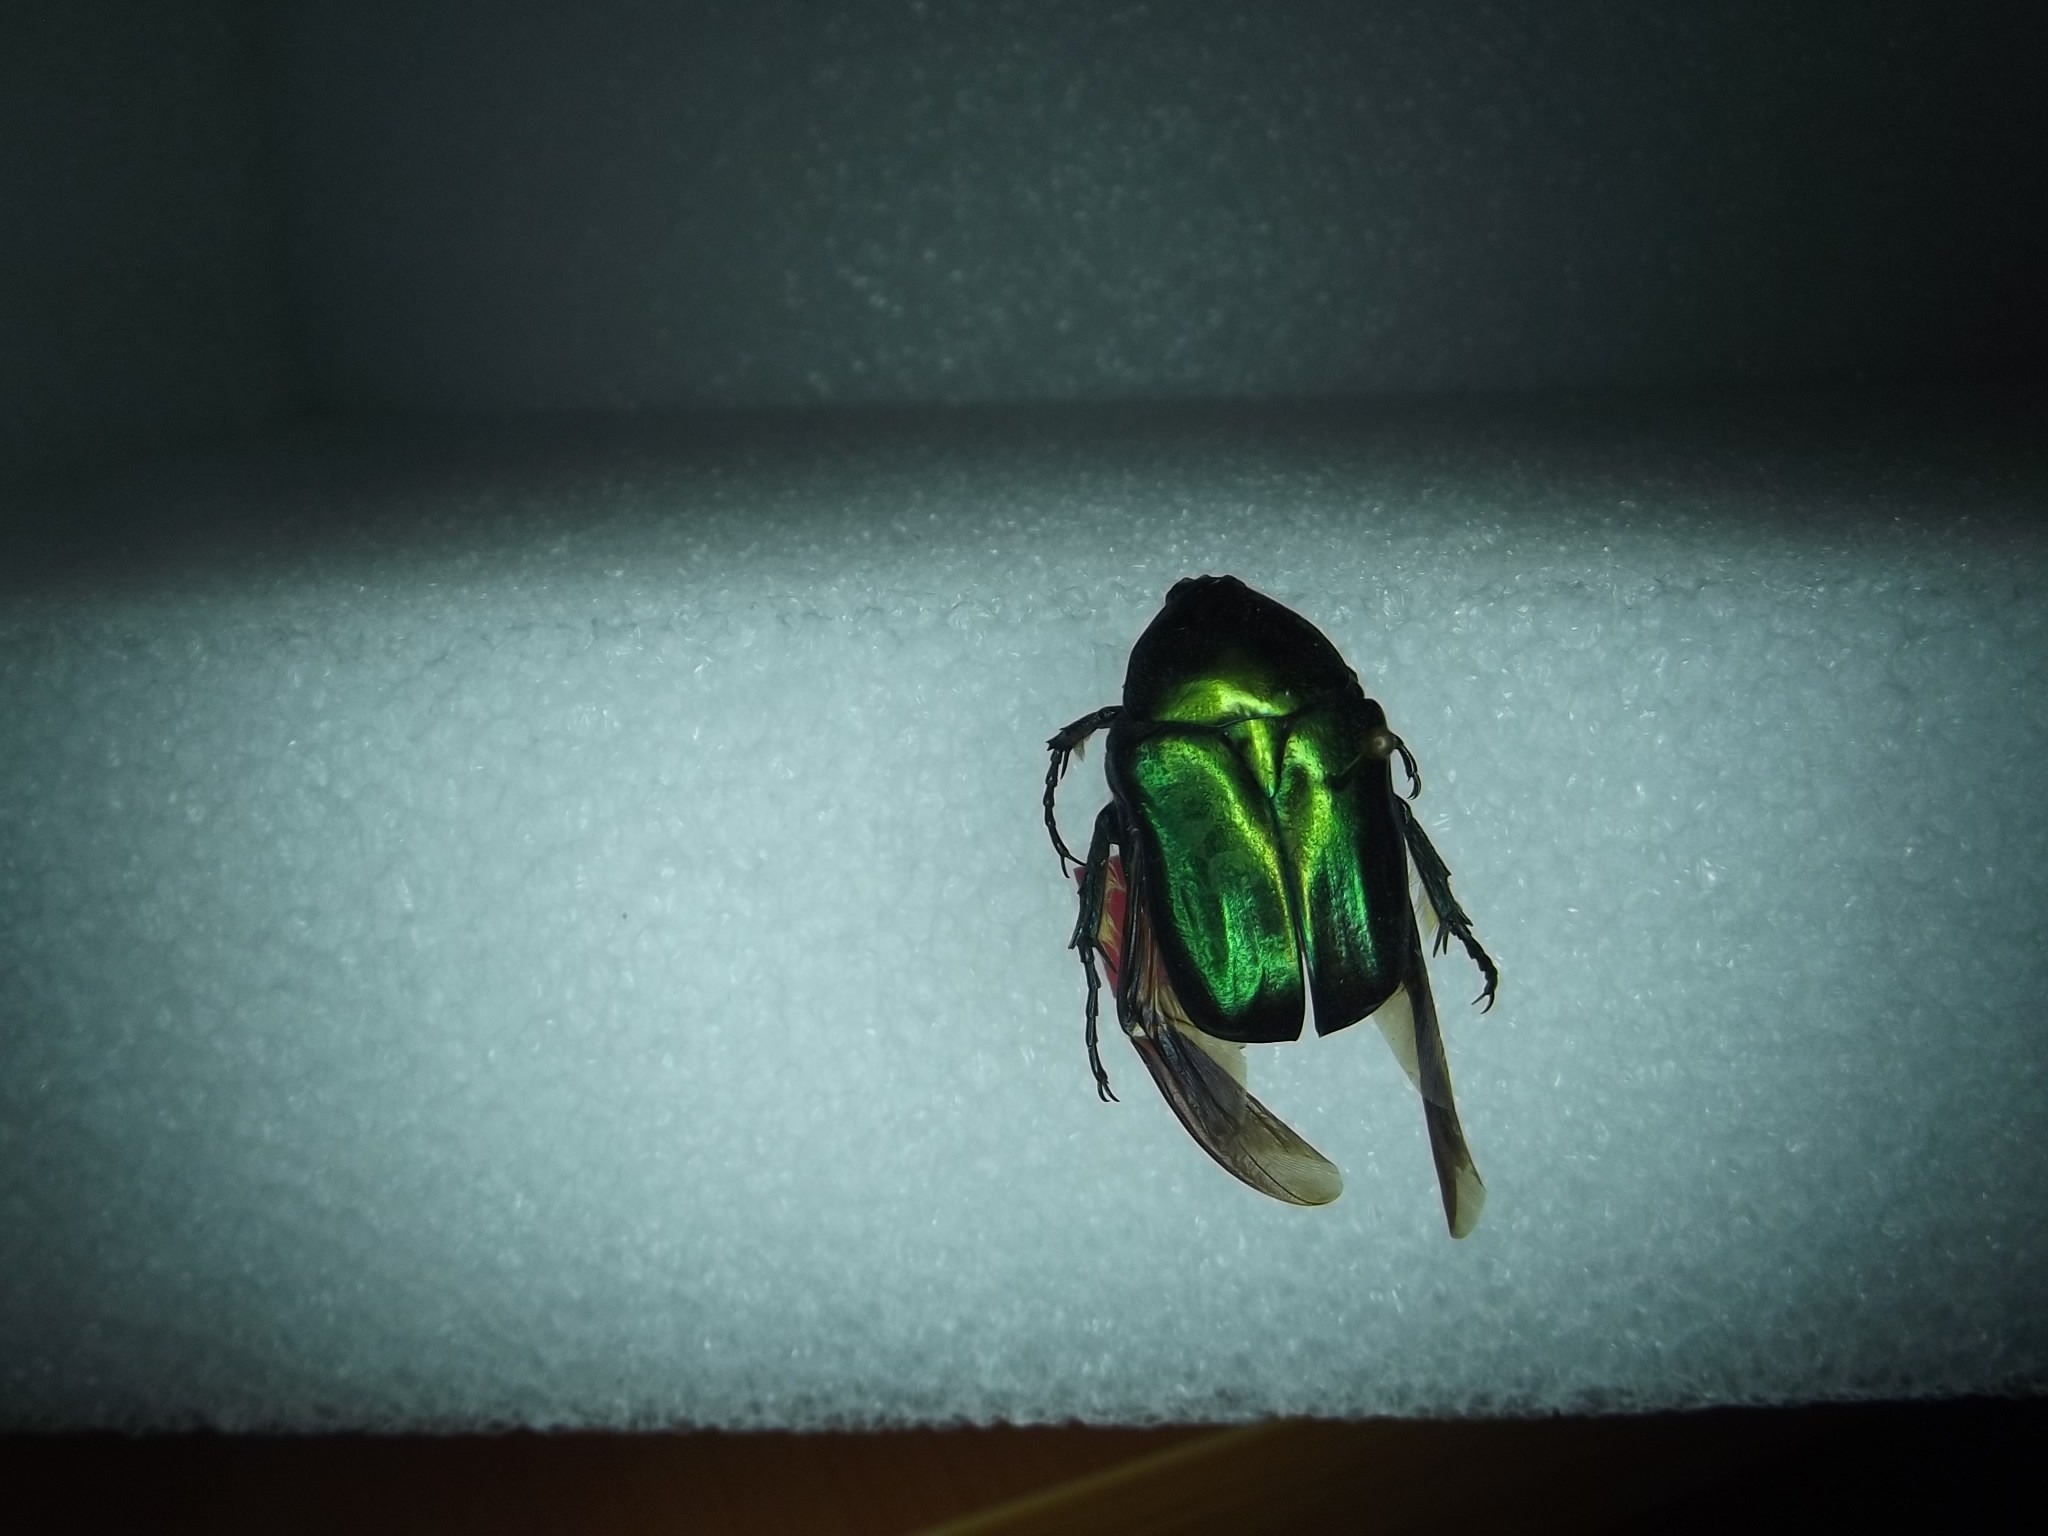Protaetia_besucheti: (1024, 529, 1553, 1260)
